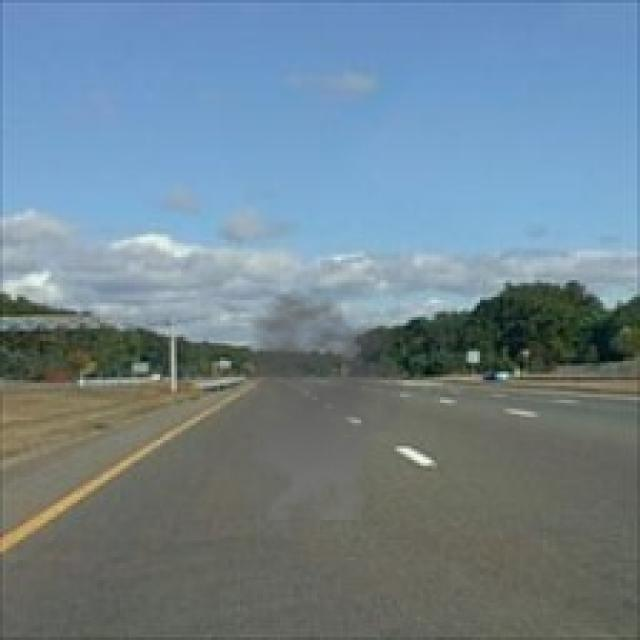smoke: (212, 289, 414, 520)
